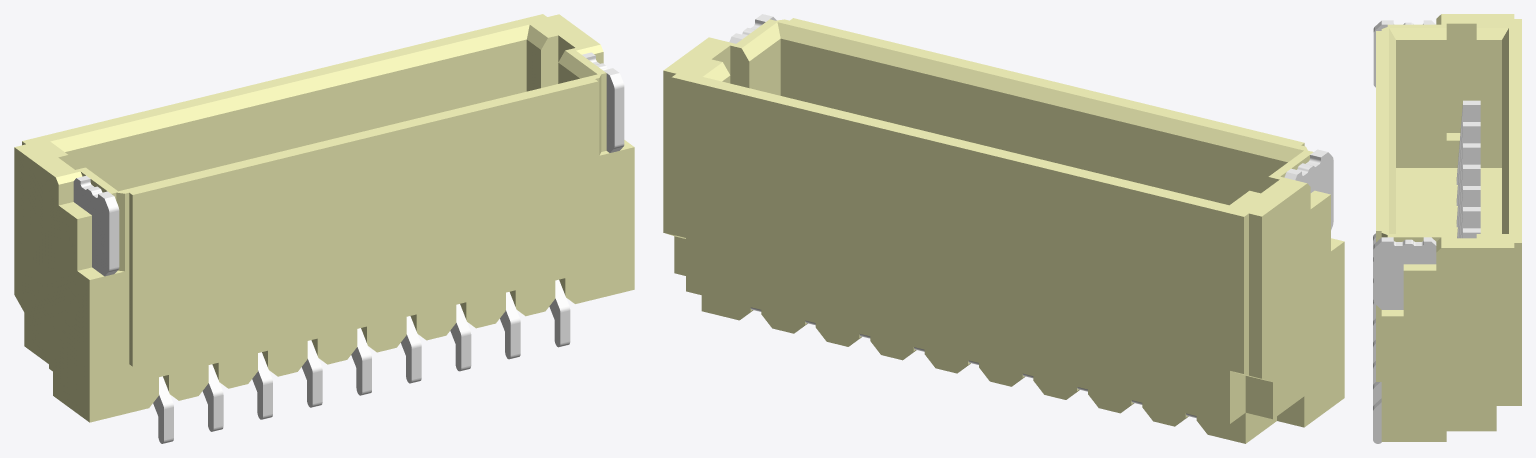
The model's file is sfe-jst_smd_1.0mm-9.glb.
3 renders of one model, left to right at view 1: azimuth 30°, elevation 25°; view 2: azimuth 150°, elevation 25°; view 3: azimuth 270°, elevation 25°, orthographic. The views are drawn at different scales.
Parts seen in each view (by area): view 1: 1_1_0.5_0, 1_1_1_0.85; view 2: 1_1_0.5_0, 1_1_1_0.85; view 3: 1_1_0.5_0, 1_1_1_0.85.
Part boxes in pixels (box(x1,y1,x2,y2)): 1_1_0.5_0: box(14, 14, 634, 422); 1_1_1_0.85: box(73, 52, 624, 443); 1_1_0.5_0: box(663, 18, 1344, 443); 1_1_1_0.85: box(729, 14, 1333, 418); 1_1_0.5_0: box(1376, 14, 1521, 441); 1_1_1_0.85: box(1373, 20, 1480, 443).
Bounding box in the file's own units: 1.1 × 0.495 × 0.2959.
